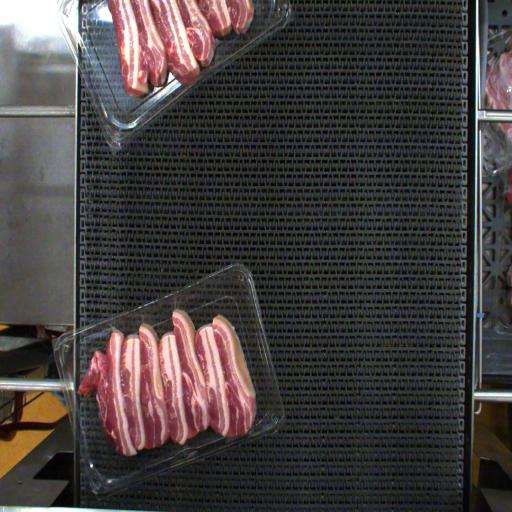packaging-error: (165, 290, 182, 320), (104, 316, 116, 332)
